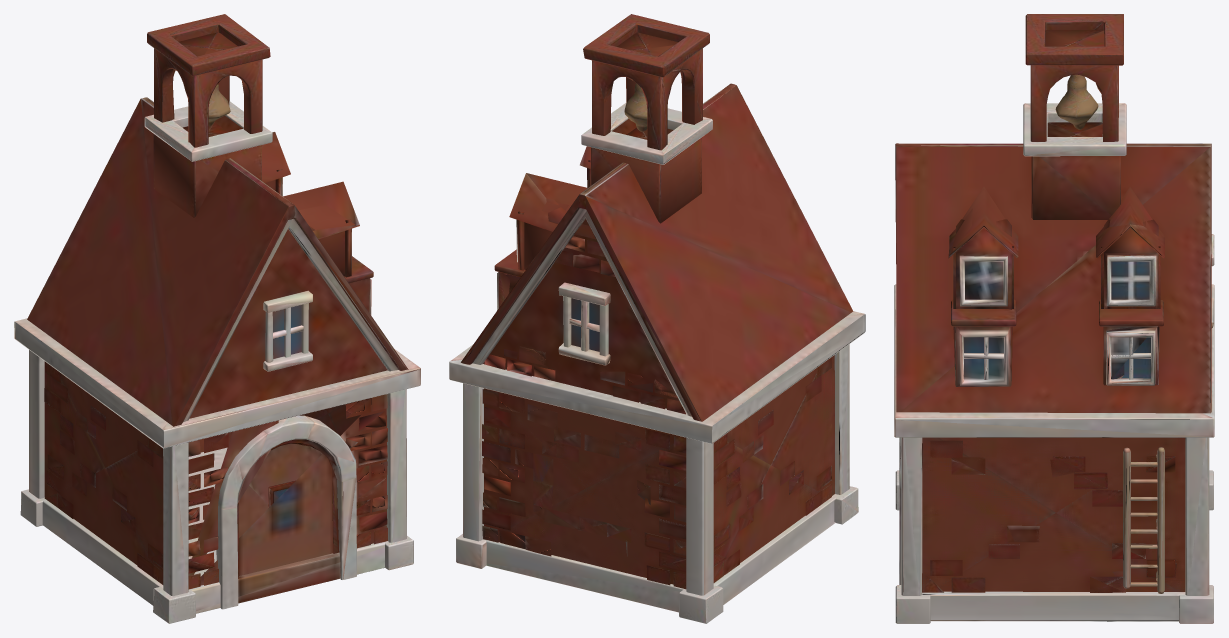
Rendered from 28-fire-station.glb.
The picture shows the model from 3 angles, left to right: view 1: azimuth 30°, elevation 25°; view 2: azimuth 150°, elevation 25°; view 3: azimuth 270°, elevation 25°; orthographic projection. The views are drawn at different scales.
Visible parts, largest first — view 1: geometry_0; view 2: geometry_0; view 3: geometry_0.
Boxes of the visible parts, box(x1,y1,x2,y2) form: geometry_0: box(14, 14, 420, 623); geometry_0: box(449, 14, 865, 623); geometry_0: box(894, 14, 1214, 623).
Size of the model in its own units: 0.5195 by 0.9512 by 0.5235.
1 material, 1 textured.
